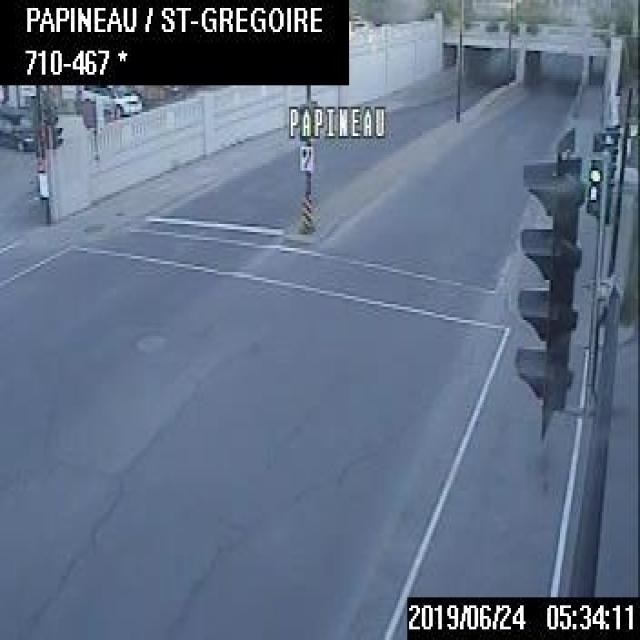vehicle: (80, 84, 144, 118), (0, 108, 36, 150)
